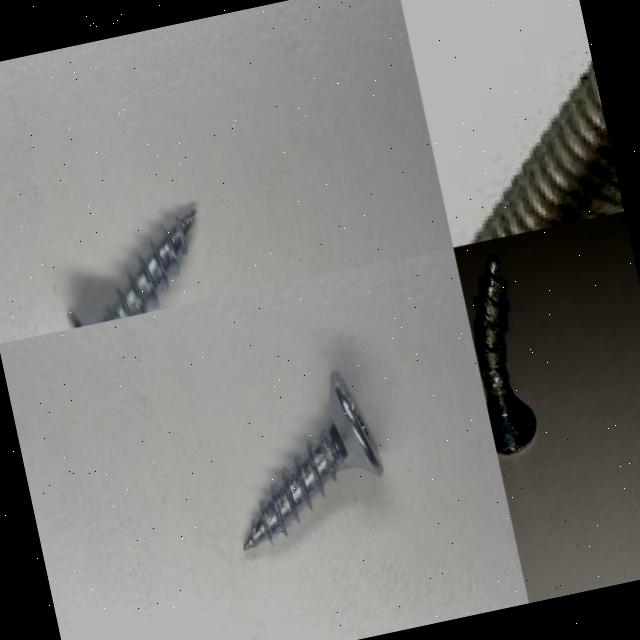Screw: (469, 62, 624, 244), (244, 369, 383, 548), (67, 208, 195, 328), (473, 252, 535, 452)
